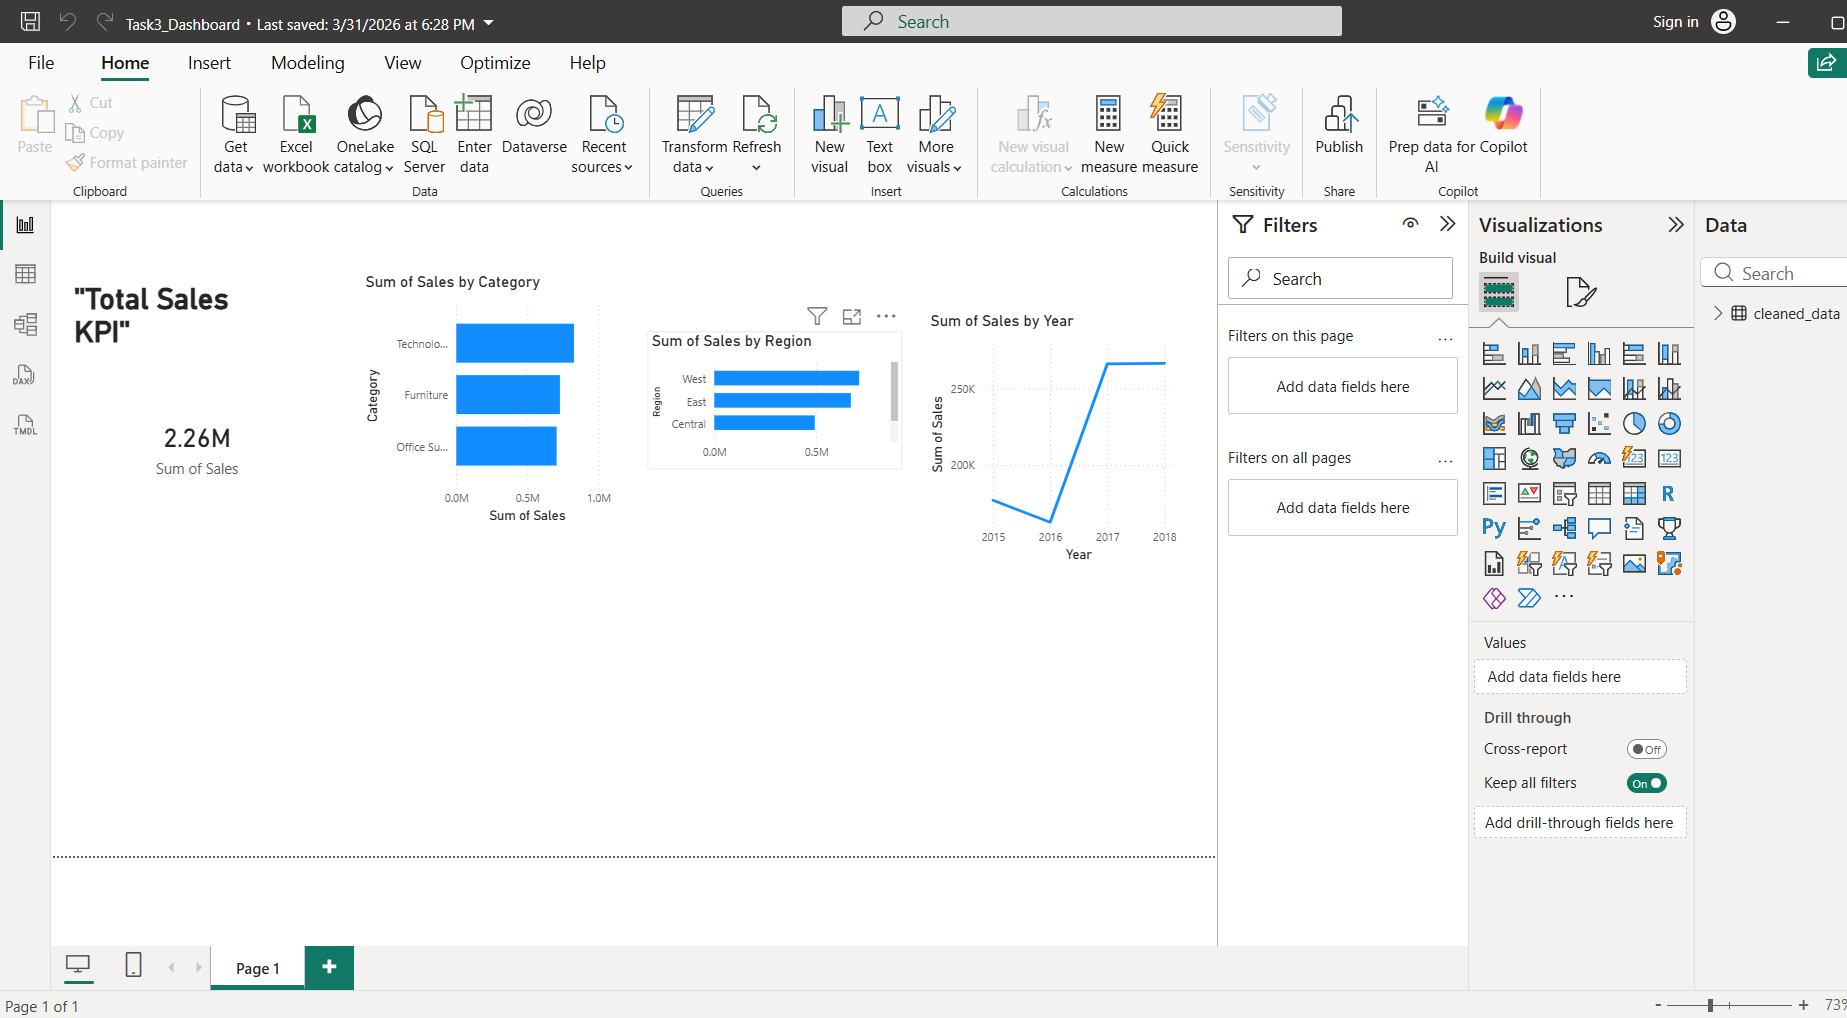

What the dashboard file says about the page in this screenshot:
{"tool":"powerbi","page":{"name":"Page 1","canvas":[1280,720],"ordinal":0},"visuals":[{"type":"card","title":"\"Total Sales KPI\"","fields":{"Values":["Sum(cleaned_data.Sales)"]},"box":[20.6,89.2,279.9,279.9],"z":0},{"type":"clusteredBarChart","fields":{"Category":["cleaned_data.Category"],"Y":["Sum(cleaned_data.Sales)"]},"box":[340.3,79.6,279.9,279.9],"z":1},{"type":"clusteredBarChart","fields":{"Category":["cleaned_data.Region"],"Y":["Sum(cleaned_data.Sales)"]},"box":[654.5,144.1,279.9,150.9],"z":2},{"type":"lineChart","fields":{"Category":["cleaned_data.Order Date.Variation.Date Hierarchy.Year","cleaned_data.Order Date.Variation.Date Hierarchy.Quarter","cleaned_data.Order Date.Variation.Date Hierarchy.Month","cleaned_data.Order Date.Variation.Date Hierarchy.Day"],"Y":["Sum(cleaned_data.Sales)"]},"box":[960.6,122.1,279.9,279.9],"z":3}]}

Visuals, with their boxes on the page's 1280x720 design canvas (x1, y1, x2, y2). These are canvas units, not pixel positions in the 1847x1018 screenshot, which may show the page scaled, cropped or inside an application window:
""Total Sales KPI"" card: 21 89 300 369
clusteredBarChart - cleaned_data.Category x Sum(cleaned_data.Sales): 340 80 620 360
clusteredBarChart - cleaned_data.Region x Sum(cleaned_data.Sales): 654 144 934 295
lineChart - cleaned_data.Order Date.Variation.Date Hierarchy.Year x cleaned_data.Order Date.Variation.Date Hierarchy.Quarter: 961 122 1240 402
